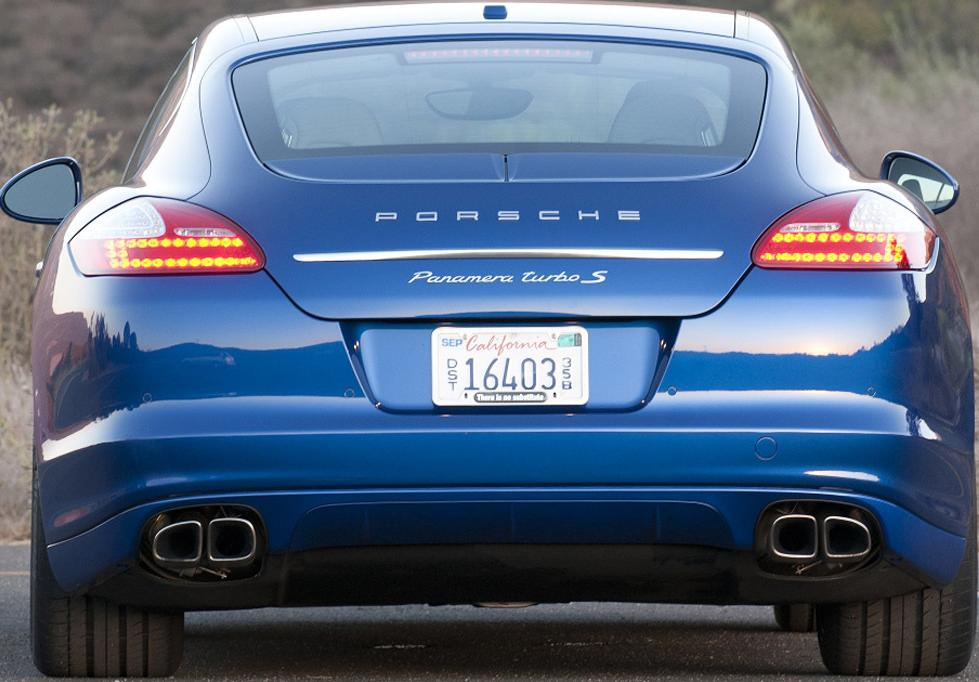back_view: (71, 181, 943, 619)
backlight: (60, 190, 317, 283)
